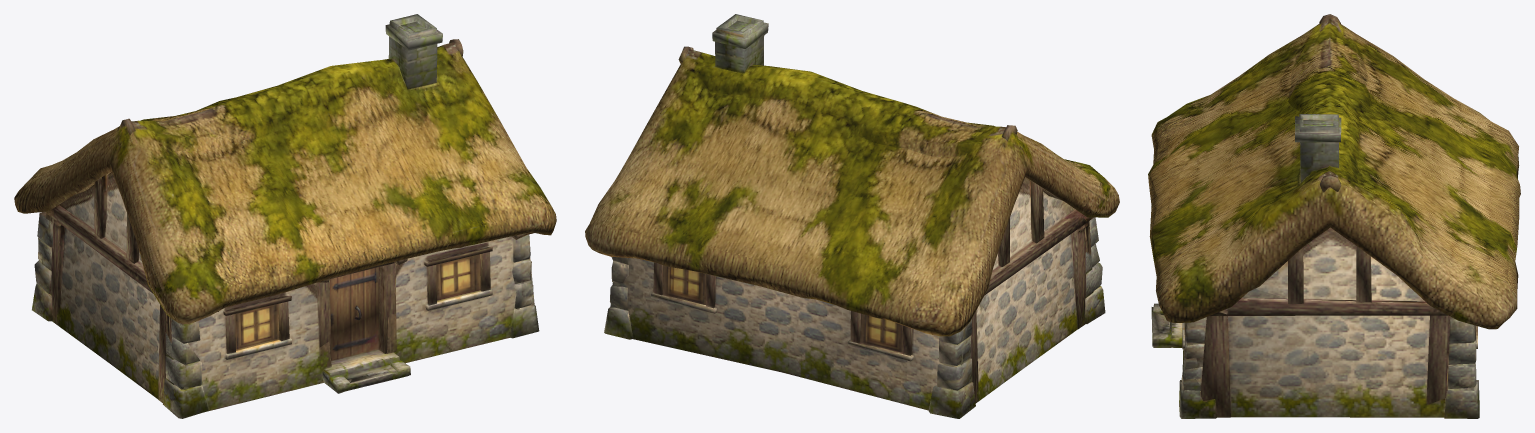
Rendered from source.glb.
3 renders of one model, left to right at view 1: azimuth 30°, elevation 25°; view 2: azimuth 150°, elevation 25°; view 3: azimuth 270°, elevation 25°, orthographic.
Bounding box in the file's own units: 1 × 0.6777 × 0.8477.
Materials: 1 (1 with a texture image).
